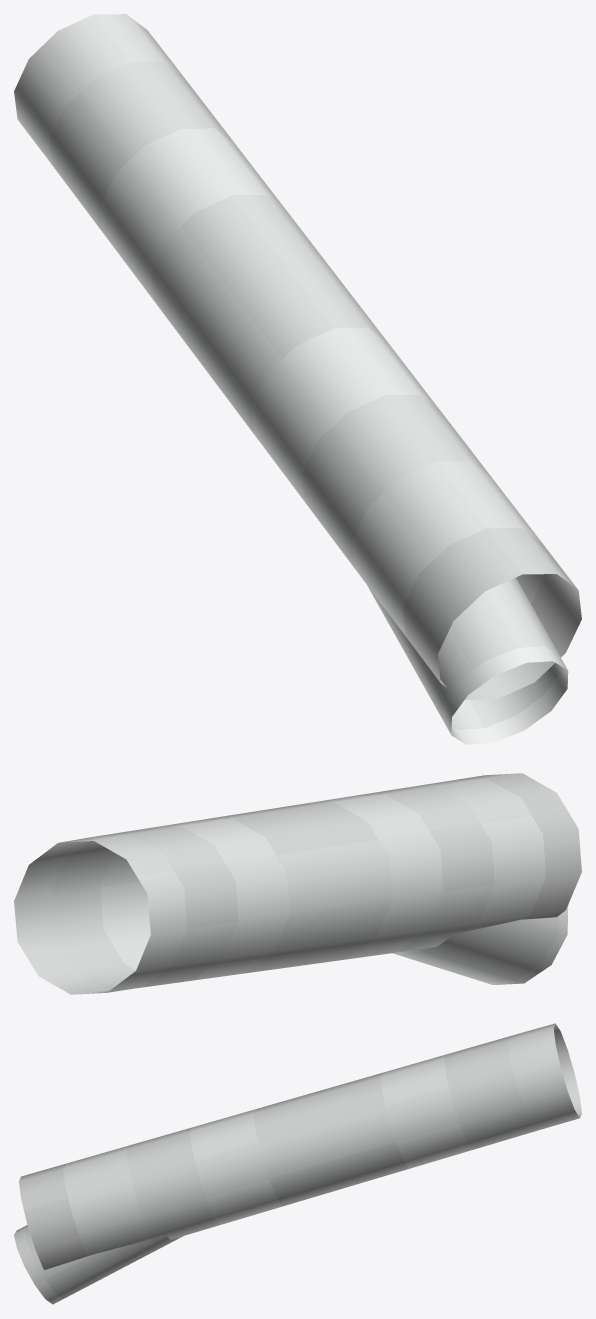
File: luminairearm_truss12ftstraightdouble_c6.obj
The picture shows the model from 3 angles, top to bottom: view 1: azimuth 30°, elevation 25°; view 2: azimuth 150°, elevation 25°; view 3: azimuth 270°, elevation 25°; orthographic projection. The views are drawn at different scales.
Parts seen in each view (by area): view 1: luminairearm_truss12ftstraightdouble_c6; view 2: luminairearm_truss12ftstraightdouble_c6; view 3: luminairearm_truss12ftstraightdouble_c6.
Boxes of the visible parts, x1,y1,x2,y2 form: luminairearm_truss12ftstraightdouble_c6: (14, 14, 581, 744); luminairearm_truss12ftstraightdouble_c6: (14, 773, 581, 994); luminairearm_truss12ftstraightdouble_c6: (14, 1023, 581, 1304).
Size of the model in its own units: 0.195 by 0.5635 by 1.07.
